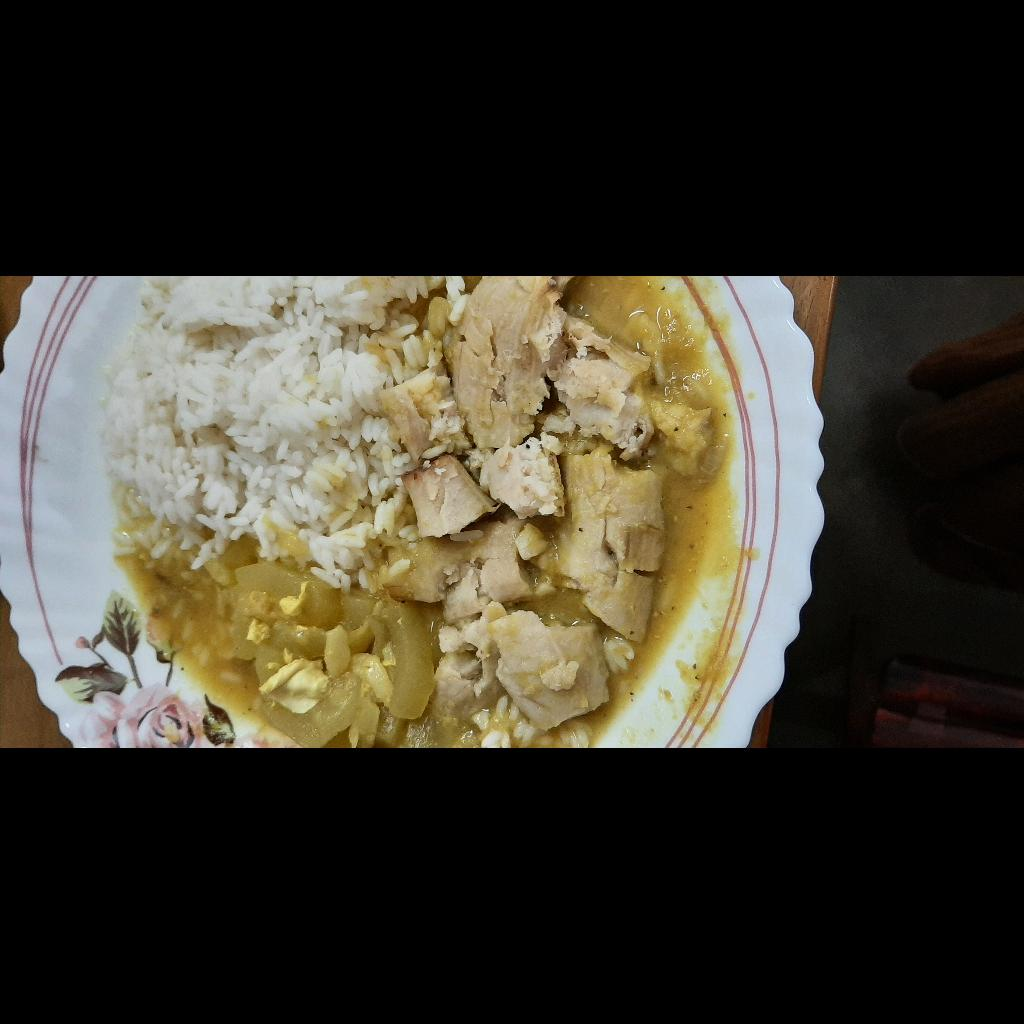banana: (13, 657, 472, 995)
kumra-vaji: (0, 394, 189, 751)
rice: (158, 375, 472, 751), (0, 738, 67, 870)
